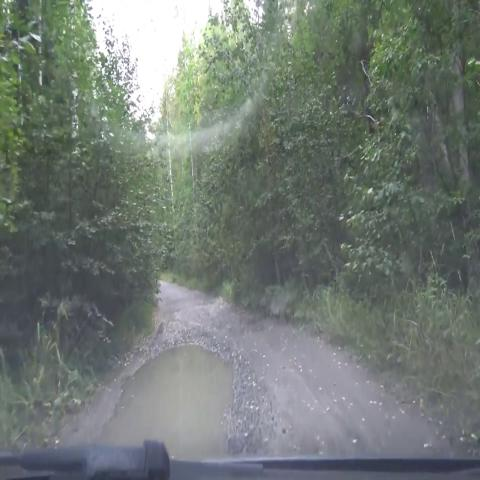pothole: (96, 314, 251, 459)
